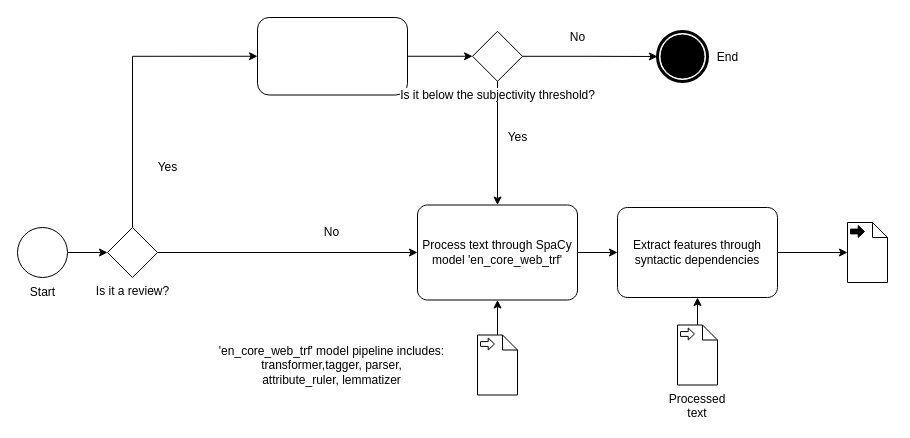
Image size: 910x438. Some labels were removed from this diagram. Each missing label, with the centre of its shape:
"Extracted features" belongs at (867,252).
"Run the review through sentiment analysis" belongs at (332,55).
"Text" belongs at (497,364).
